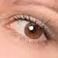eye: (25, 23, 42, 39)
